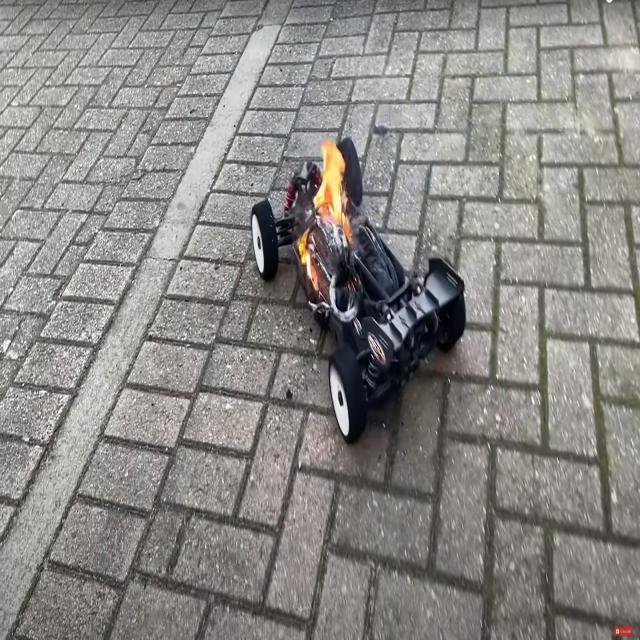Fire: (288, 134, 353, 308)
